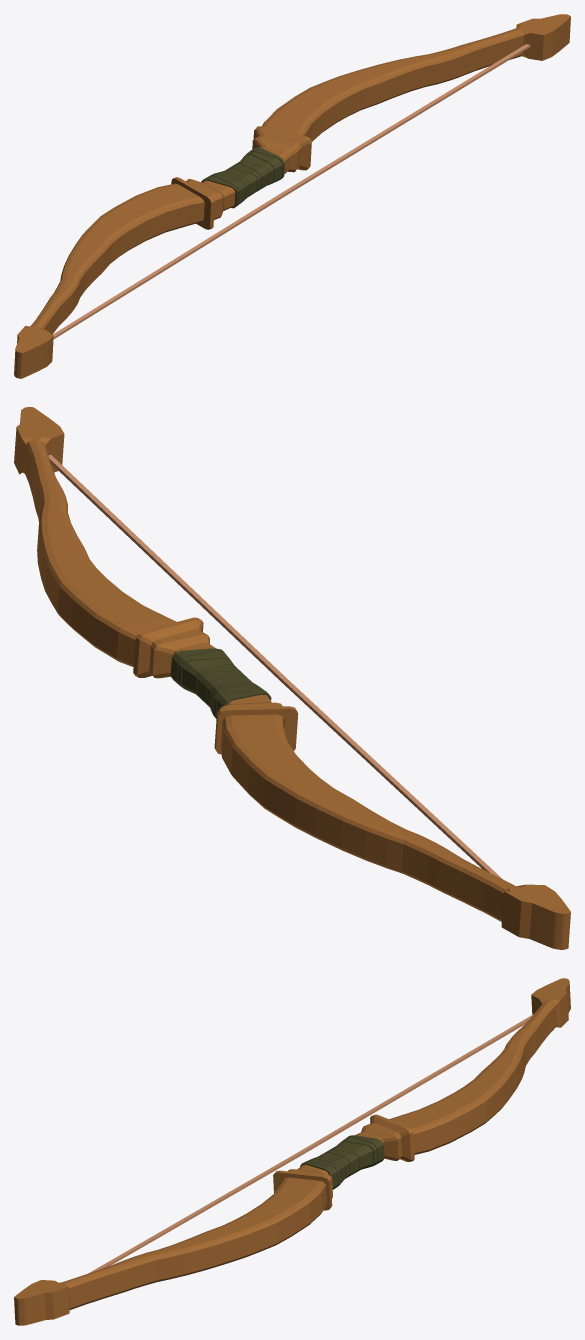
File: arcobyLoa.fbx
3 renders of one model, top to bottom at view 1: azimuth 90°, elevation 25°; view 2: azimuth 150°, elevation 25°; view 3: azimuth 270°, elevation 25°, orthographic. The views are drawn at different scales.
Parts seen in each view (by area): view 1: Bowstring; view 2: Bowstring; view 3: Bowstring.
Boxes of the visible parts, bbox=[...] form: Bowstring: bbox=[14, 14, 570, 378]; Bowstring: bbox=[14, 407, 570, 949]; Bowstring: bbox=[14, 978, 570, 1325].
Bounding box in the file's own units: 247 × 14.03 × 176.
